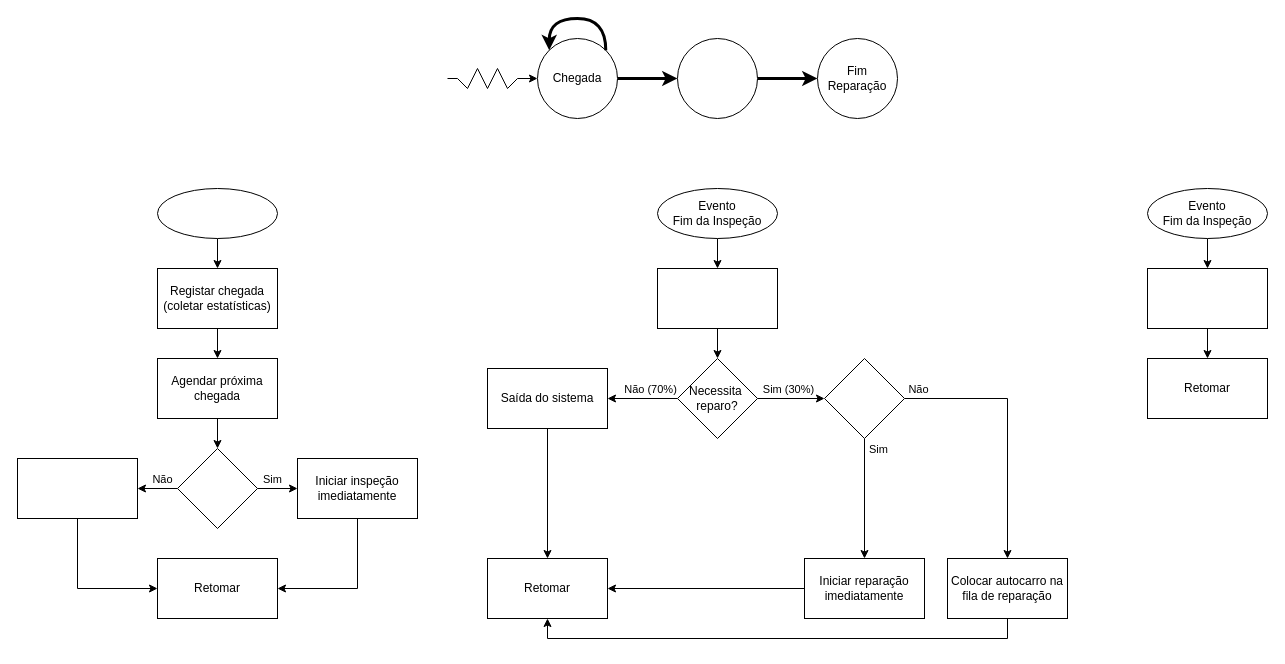
The diagram is 1285 pixels wide and 664 high, and some of its shapes have lost their labels. The shapes that lost their labels are listed below. From the top down, each one's centre as x and y in pixels, then its label:
At pixel 717 78: "Fim Inspeção".
At pixel 217 213: "Evento Chegada de Autocarro".
At pixel 717 298: "Libertar estação de inspeção".
At pixel 1207 298: "Libertar estação de reparação".
At pixel 864 398: "Fila reparação vazia?".
At pixel 77 488: "Colocar autocarro na fila de inspeção".
At pixel 217 488: "Fila inspeção vazia?".
